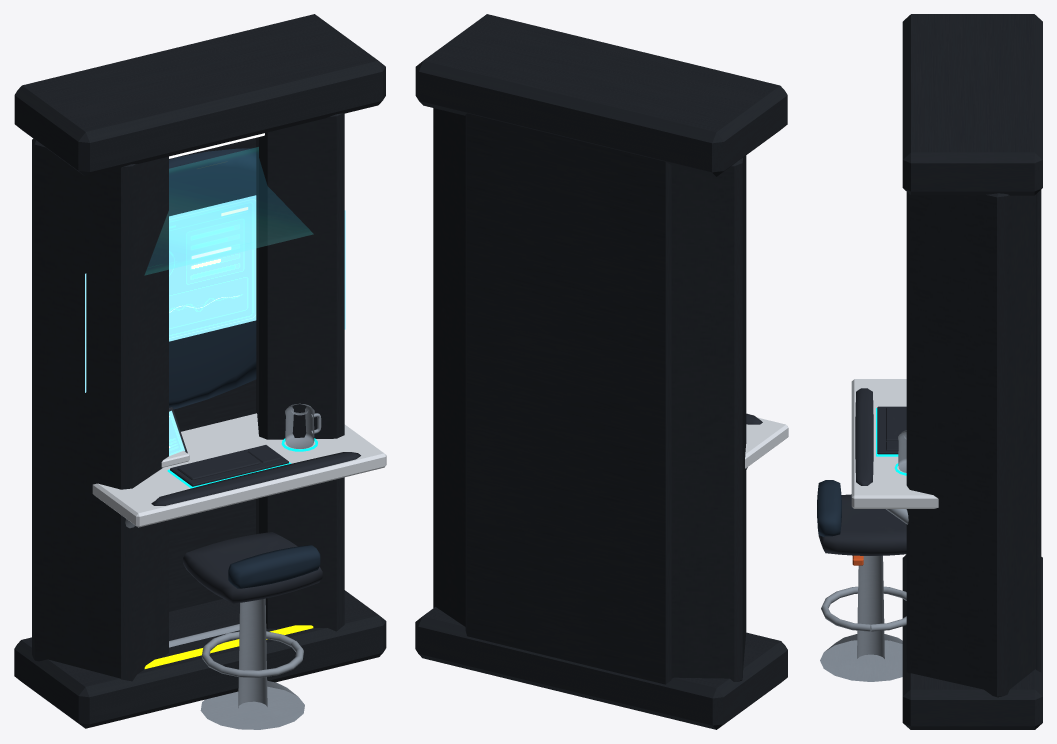
The model's file is walldesk_r1_05.glb.
3 views of the same model, side by side, from view 1: azimuth 30°, elevation 25°; view 2: azimuth 150°, elevation 25°; view 3: azimuth 270°, elevation 25° (orthographic). The views are drawn at different scales.
Visible parts, largest first — view 1: WallDesk05_CockpitGunmetalEnclosure, WallDesk05_NavyStoolBackrest, WallDesk05_CockpitHoloHUDVisor, WallDesk05_CenterWidescreenOLED, WallDesk05_TrapezoidalWhiteDeskLeaf, WallDesk05_CharcoalStoolAndWristBolster, WallDesk05_HydraulicRamsTurretStoolAndMug, WallDesk05_WingMonitorsAndDatapad, WallDesk05_AmberToeKickLED; view 2: WallDesk05_CockpitGunmetalEnclosure, WallDesk05_TrapezoidalWhiteDeskLeaf; view 3: WallDesk05_CockpitGunmetalEnclosure, WallDesk05_HydraulicRamsTurretStoolAndMug, WallDesk05_CharcoalStoolAndWristBolster, WallDesk05_TrapezoidalWhiteDeskLeaf, WallDesk05_NavyStoolBackrest.
Part boxes in pixels (x1,y1,x2,y2): WallDesk05_CockpitGunmetalEnclosure: (14,14,386,728); WallDesk05_NavyStoolBackrest: (169,147,320,588); WallDesk05_CockpitHoloHUDVisor: (145,147,312,274); WallDesk05_CenterWidescreenOLED: (169,195,256,341); WallDesk05_TrapezoidalWhiteDeskLeaf: (92,413,386,527); WallDesk05_CharcoalStoolAndWristBolster: (151,407,360,603); WallDesk05_HydraulicRamsTurretStoolAndMug: (125,403,321,729); WallDesk05_WingMonitorsAndDatapad: (85,210,345,455); WallDesk05_AmberToeKickLED: (144,625,313,668); WallDesk05_CockpitGunmetalEnclosure: (415,14,787,729); WallDesk05_TrapezoidalWhiteDeskLeaf: (745,417,788,468); WallDesk05_CockpitGunmetalEnclosure: (902,14,1042,729); WallDesk05_HydraulicRamsTurretStoolAndMug: (820,430,908,681); WallDesk05_CharcoalStoolAndWristBolster: (817,388,906,555); WallDesk05_TrapezoidalWhiteDeskLeaf: (851,379,938,508); WallDesk05_NavyStoolBackrest: (817,480,841,536).
Bounding box in the file's own units: 1.08 × 2 × 0.709.
Materials: 12 (12 with a texture image).
